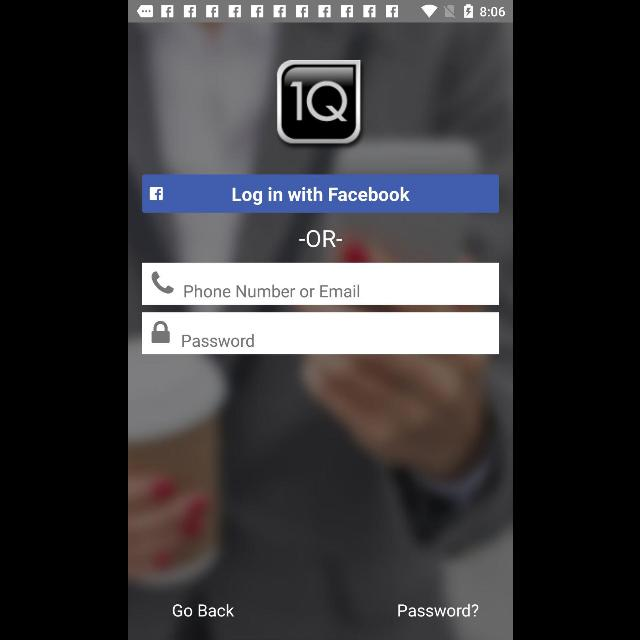backgroundimage: (128, 22, 512, 640)
icon: (151, 321, 169, 343)
image: (276, 60, 360, 144), (151, 272, 173, 294)
input: (142, 263, 498, 305), (142, 312, 498, 354)
text: (184, 278, 358, 290), (398, 604, 478, 616), (172, 603, 234, 617), (183, 328, 255, 340), (298, 230, 342, 248)
textbutton: (142, 175, 498, 213)
uppertaskbar: (128, 1, 512, 23)
